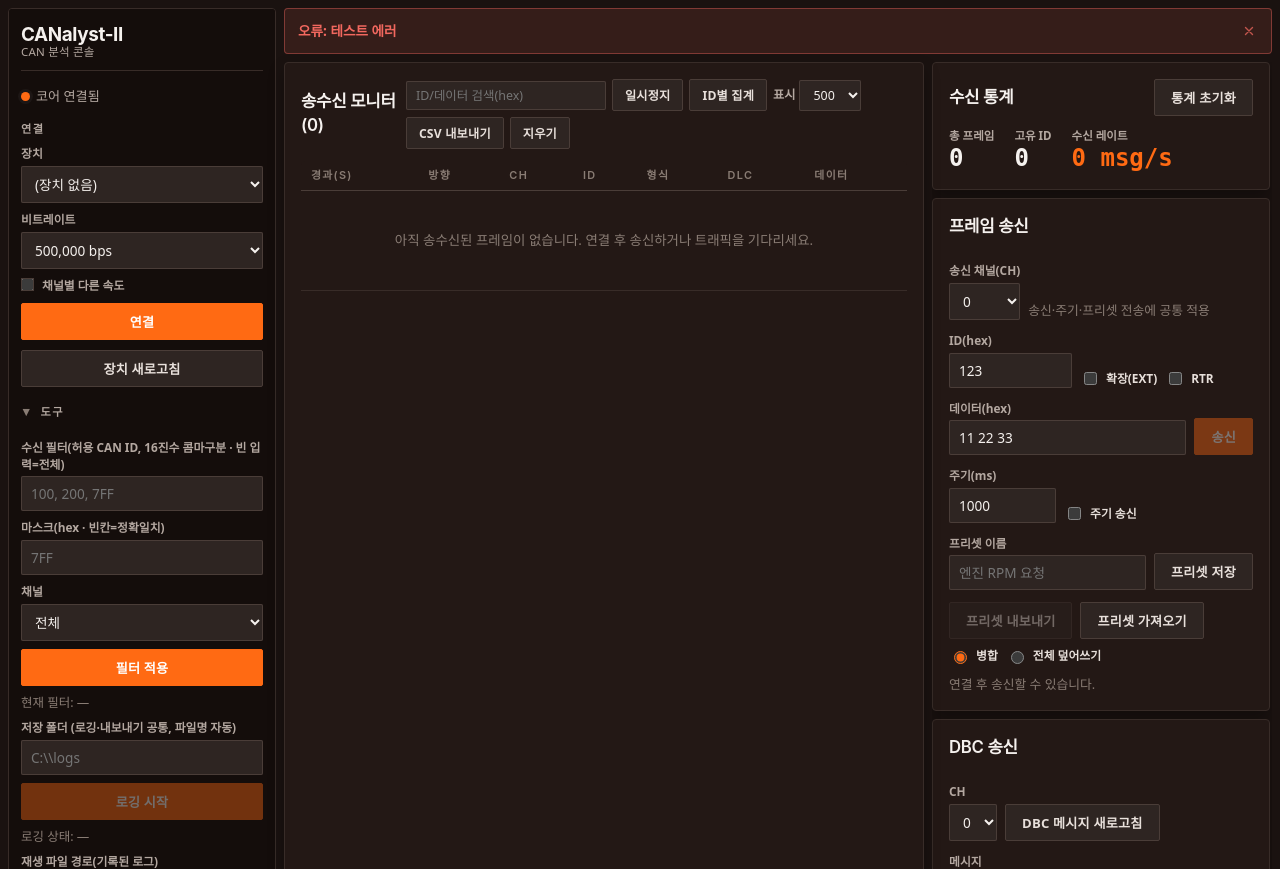
Test: App 에러 패널 › X 아이콘 버튼으로 에러 패널을 닫는다
Expected: the message "오류: 테스트 에러" is shown, [284,8,1272,54]
Click the button with class "app-error-close": (1249, 31) [1236,18,1262,44]
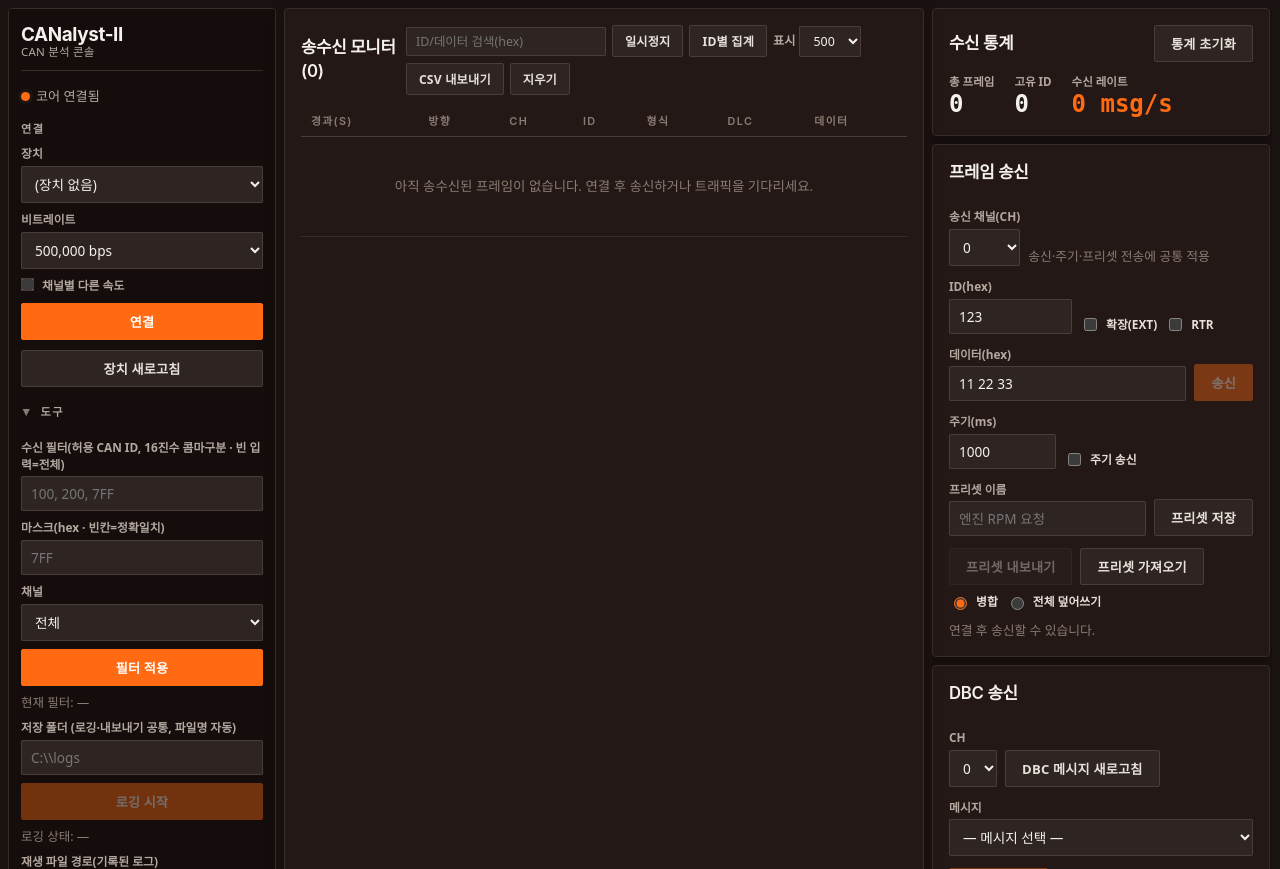
Now the message with class "app-error" is gone
